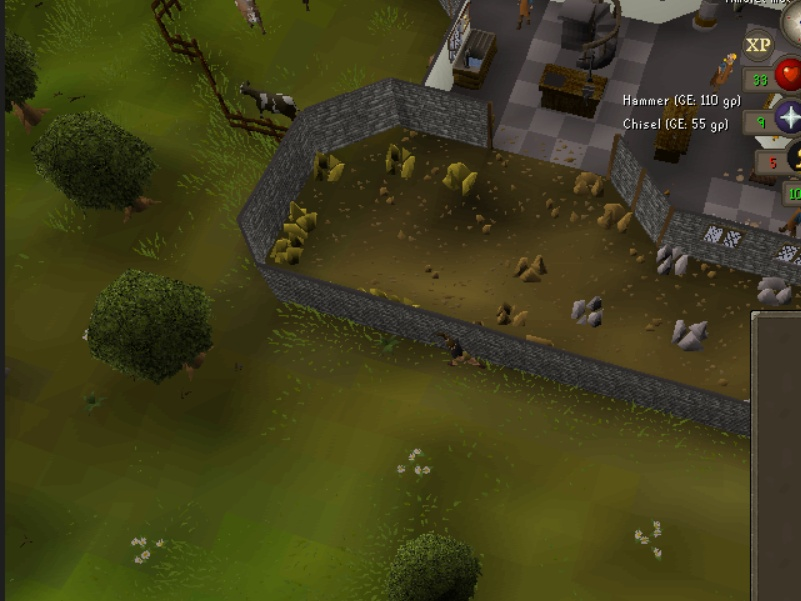clay: (494, 299, 530, 330), (598, 200, 634, 231), (571, 167, 607, 198), (515, 253, 551, 284)
gold: (380, 139, 422, 181), (265, 229, 307, 271), (281, 192, 323, 234), (439, 152, 481, 194), (305, 144, 347, 186)
silver: (568, 288, 613, 329), (751, 270, 796, 311), (668, 312, 713, 353), (650, 237, 695, 278)
